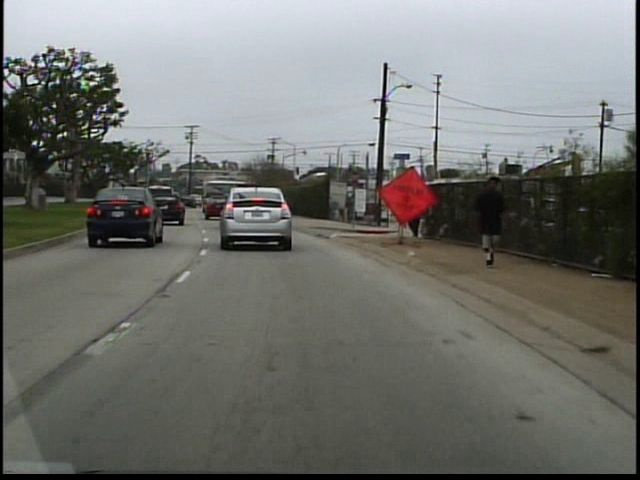person: (468, 169, 509, 274), (401, 183, 429, 242)
